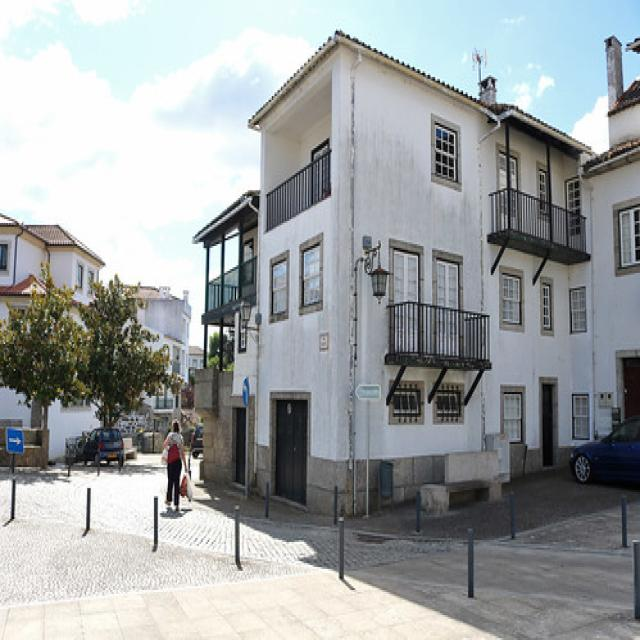building: (184, 32, 591, 526)
